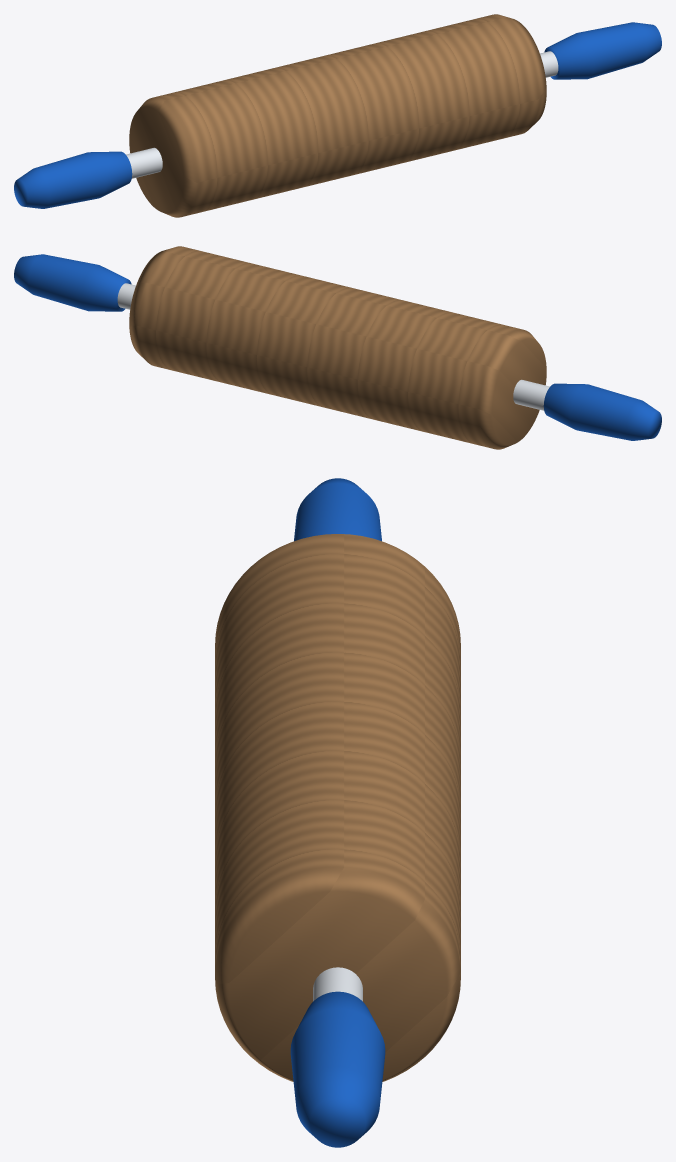
File: rolling_pin.glb
The picture shows the model from 3 angles, top to bottom: view 1: azimuth 30°, elevation 25°; view 2: azimuth 150°, elevation 25°; view 3: azimuth 270°, elevation 25°; orthographic projection. The views are drawn at different scales.
Parts seen in each view (by area): view 1: Beech_Rolling_Barrel, Rolling_Handle-1, Rolling_Handle1, Rolling_Axle-1, Rolling_Axle1; view 2: Beech_Rolling_Barrel, Rolling_Handle-1, Rolling_Handle1, Rolling_Axle-1, Rolling_Axle1; view 3: Beech_Rolling_Barrel, Rolling_Handle1, Rolling_Handle-1, Rolling_Axle1.
Part boxes in pixels (x1,y1,x2,y2): Beech_Rolling_Barrel: (129, 14, 546, 217); Rolling_Handle-1: (14, 151, 132, 208); Rolling_Handle1: (544, 22, 661, 79); Rolling_Axle-1: (126, 147, 162, 178); Rolling_Axle1: (540, 51, 558, 77); Beech_Rolling_Barrel: (129, 246, 546, 449); Rolling_Handle-1: (543, 383, 661, 440); Rolling_Handle1: (14, 254, 131, 311); Rolling_Axle-1: (513, 379, 549, 410); Rolling_Axle1: (117, 283, 135, 309); Beech_Rolling_Barrel: (215, 534, 460, 1081); Rolling_Handle1: (290, 991, 385, 1147); Rolling_Handle-1: (294, 478, 381, 541); Rolling_Axle1: (313, 967, 362, 1001).
Bounding box in the file's own units: 0.524 × 0.088 × 0.088.
Materials: 4 (1 with a texture image).
